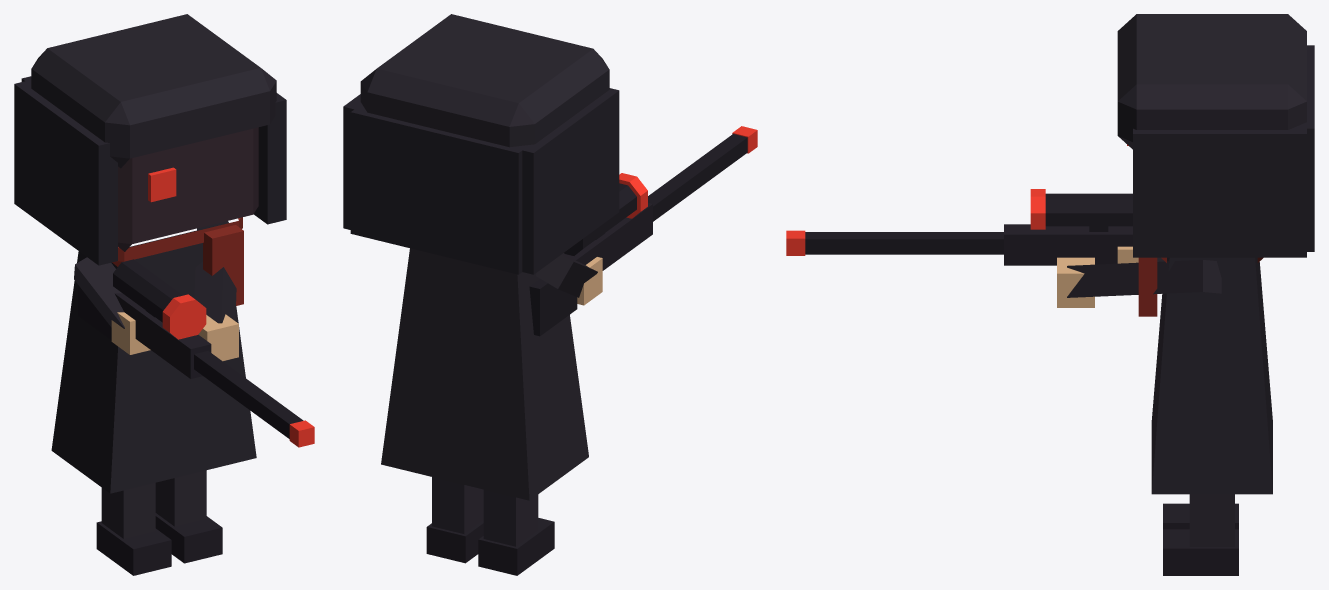
The model's file is sniper_enemy_r3.glb.
3 views of the same model, side by side, from view 1: azimuth 30°, elevation 25°; view 2: azimuth 150°, elevation 25°; view 3: azimuth 270°, elevation 25° (orthographic). The views are drawn at different scales.
Parts seen in each view (by area): view 1: sniper_enemy_r3_mesh; view 2: sniper_enemy_r3_mesh; view 3: sniper_enemy_r3_mesh.
Boxes of the visible parts, x1,y1,x2,y2 form: sniper_enemy_r3_mesh: (14, 14, 314, 575); sniper_enemy_r3_mesh: (343, 14, 757, 575); sniper_enemy_r3_mesh: (786, 14, 1314, 575).
Size of the model in its own units: 0.6823 by 1.7 by 1.61.
Materials: 1 (1 with a texture image).
